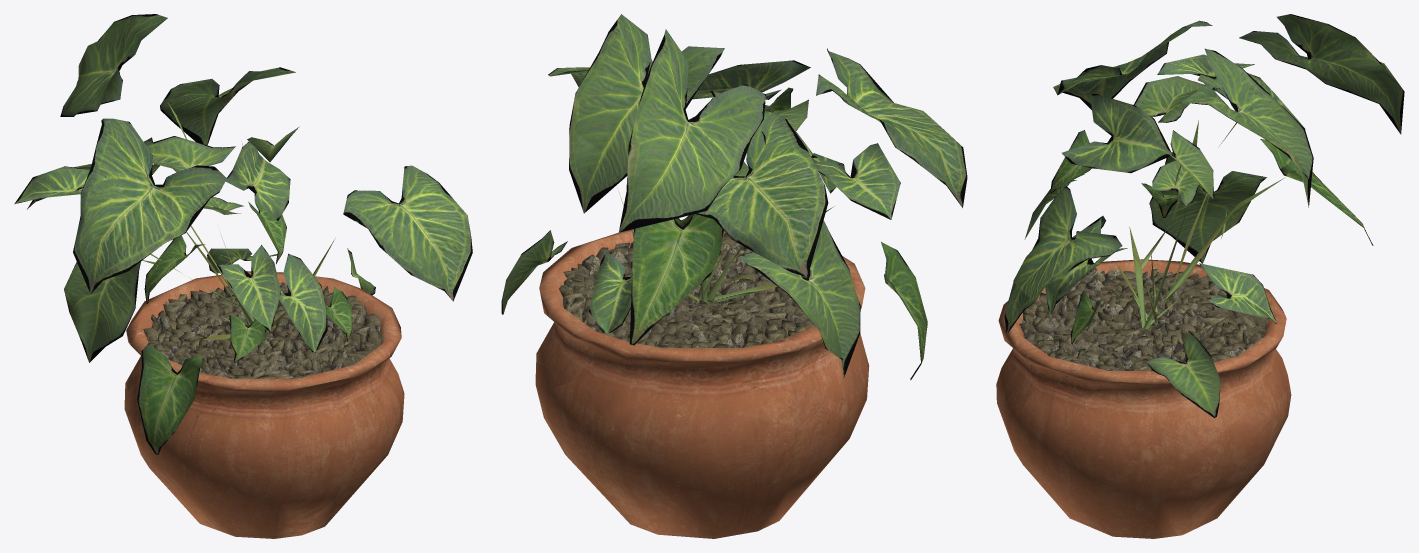
File: potted_plant_02.glb
3 renders of one model, left to right at view 1: azimuth 30°, elevation 25°; view 2: azimuth 150°, elevation 25°; view 3: azimuth 270°, elevation 25°, orthographic. The views are drawn at different scales.
Visible parts, largest first — view 1: potted_plant_02_leaves, potted_plant_02_pot, potted_plant_02_dirt; view 2: potted_plant_02_leaves, potted_plant_02_pot, potted_plant_02_dirt; view 3: potted_plant_02_leaves, potted_plant_02_pot, potted_plant_02_dirt.
Boxes of the visible parts, bbox=[...] form: potted_plant_02_leaves: bbox=[14, 14, 472, 454]; potted_plant_02_pot: bbox=[124, 271, 404, 538]; potted_plant_02_dirt: bbox=[143, 282, 383, 378]; potted_plant_02_leaves: bbox=[501, 14, 967, 380]; potted_plant_02_pot: bbox=[535, 229, 869, 538]; potted_plant_02_dirt: bbox=[559, 232, 814, 360]; potted_plant_02_leaves: bbox=[1004, 14, 1404, 417]; potted_plant_02_pot: bbox=[996, 259, 1291, 538]; potted_plant_02_dirt: bbox=[1019, 268, 1268, 377].
Size of the model in its own units: 0.7009 by 0.8372 by 0.6545.
2 materials, 2 textured.
